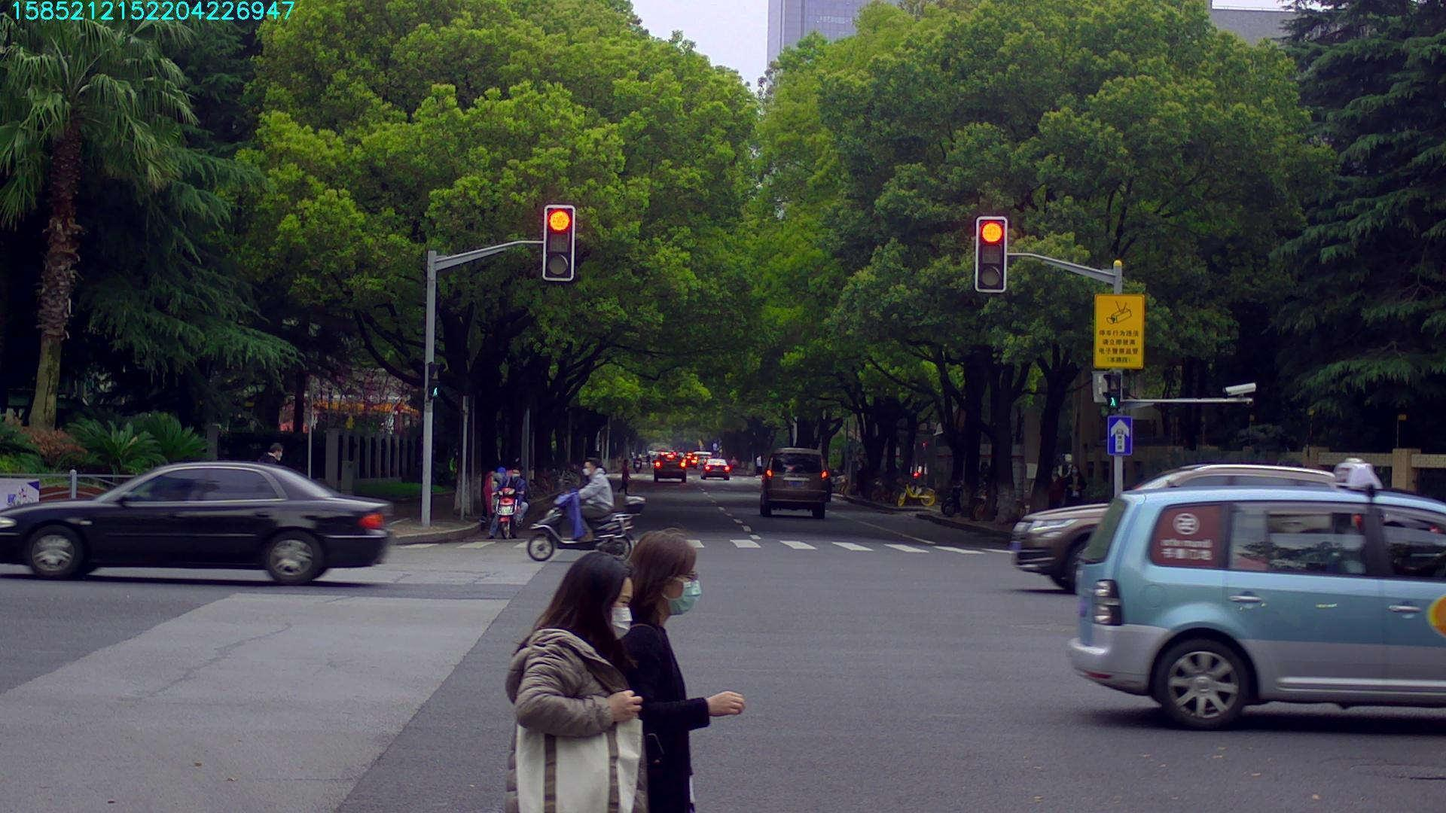red: (977, 218, 1006, 291), (545, 204, 572, 277)
